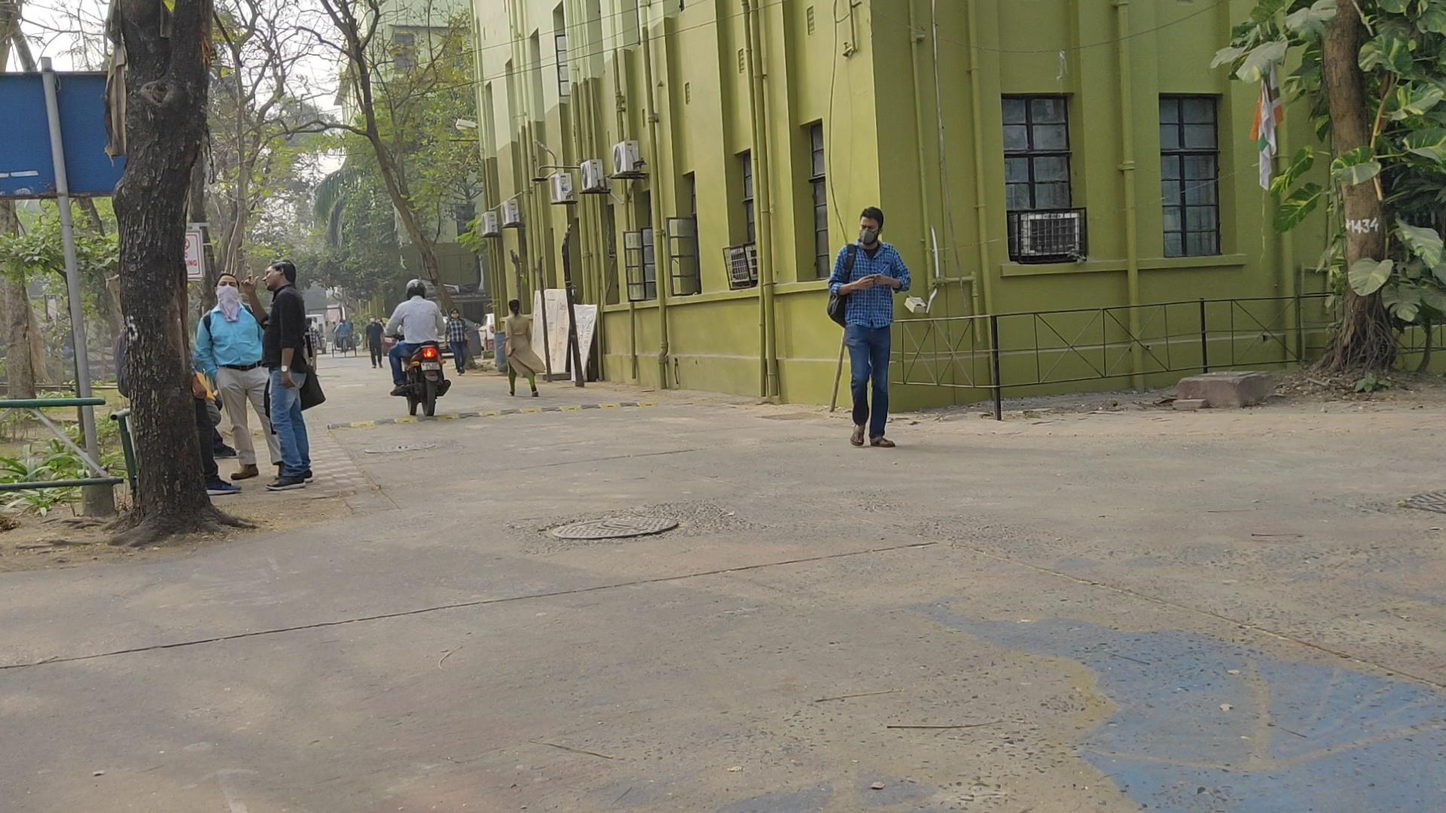bike: (385, 279, 451, 417)
